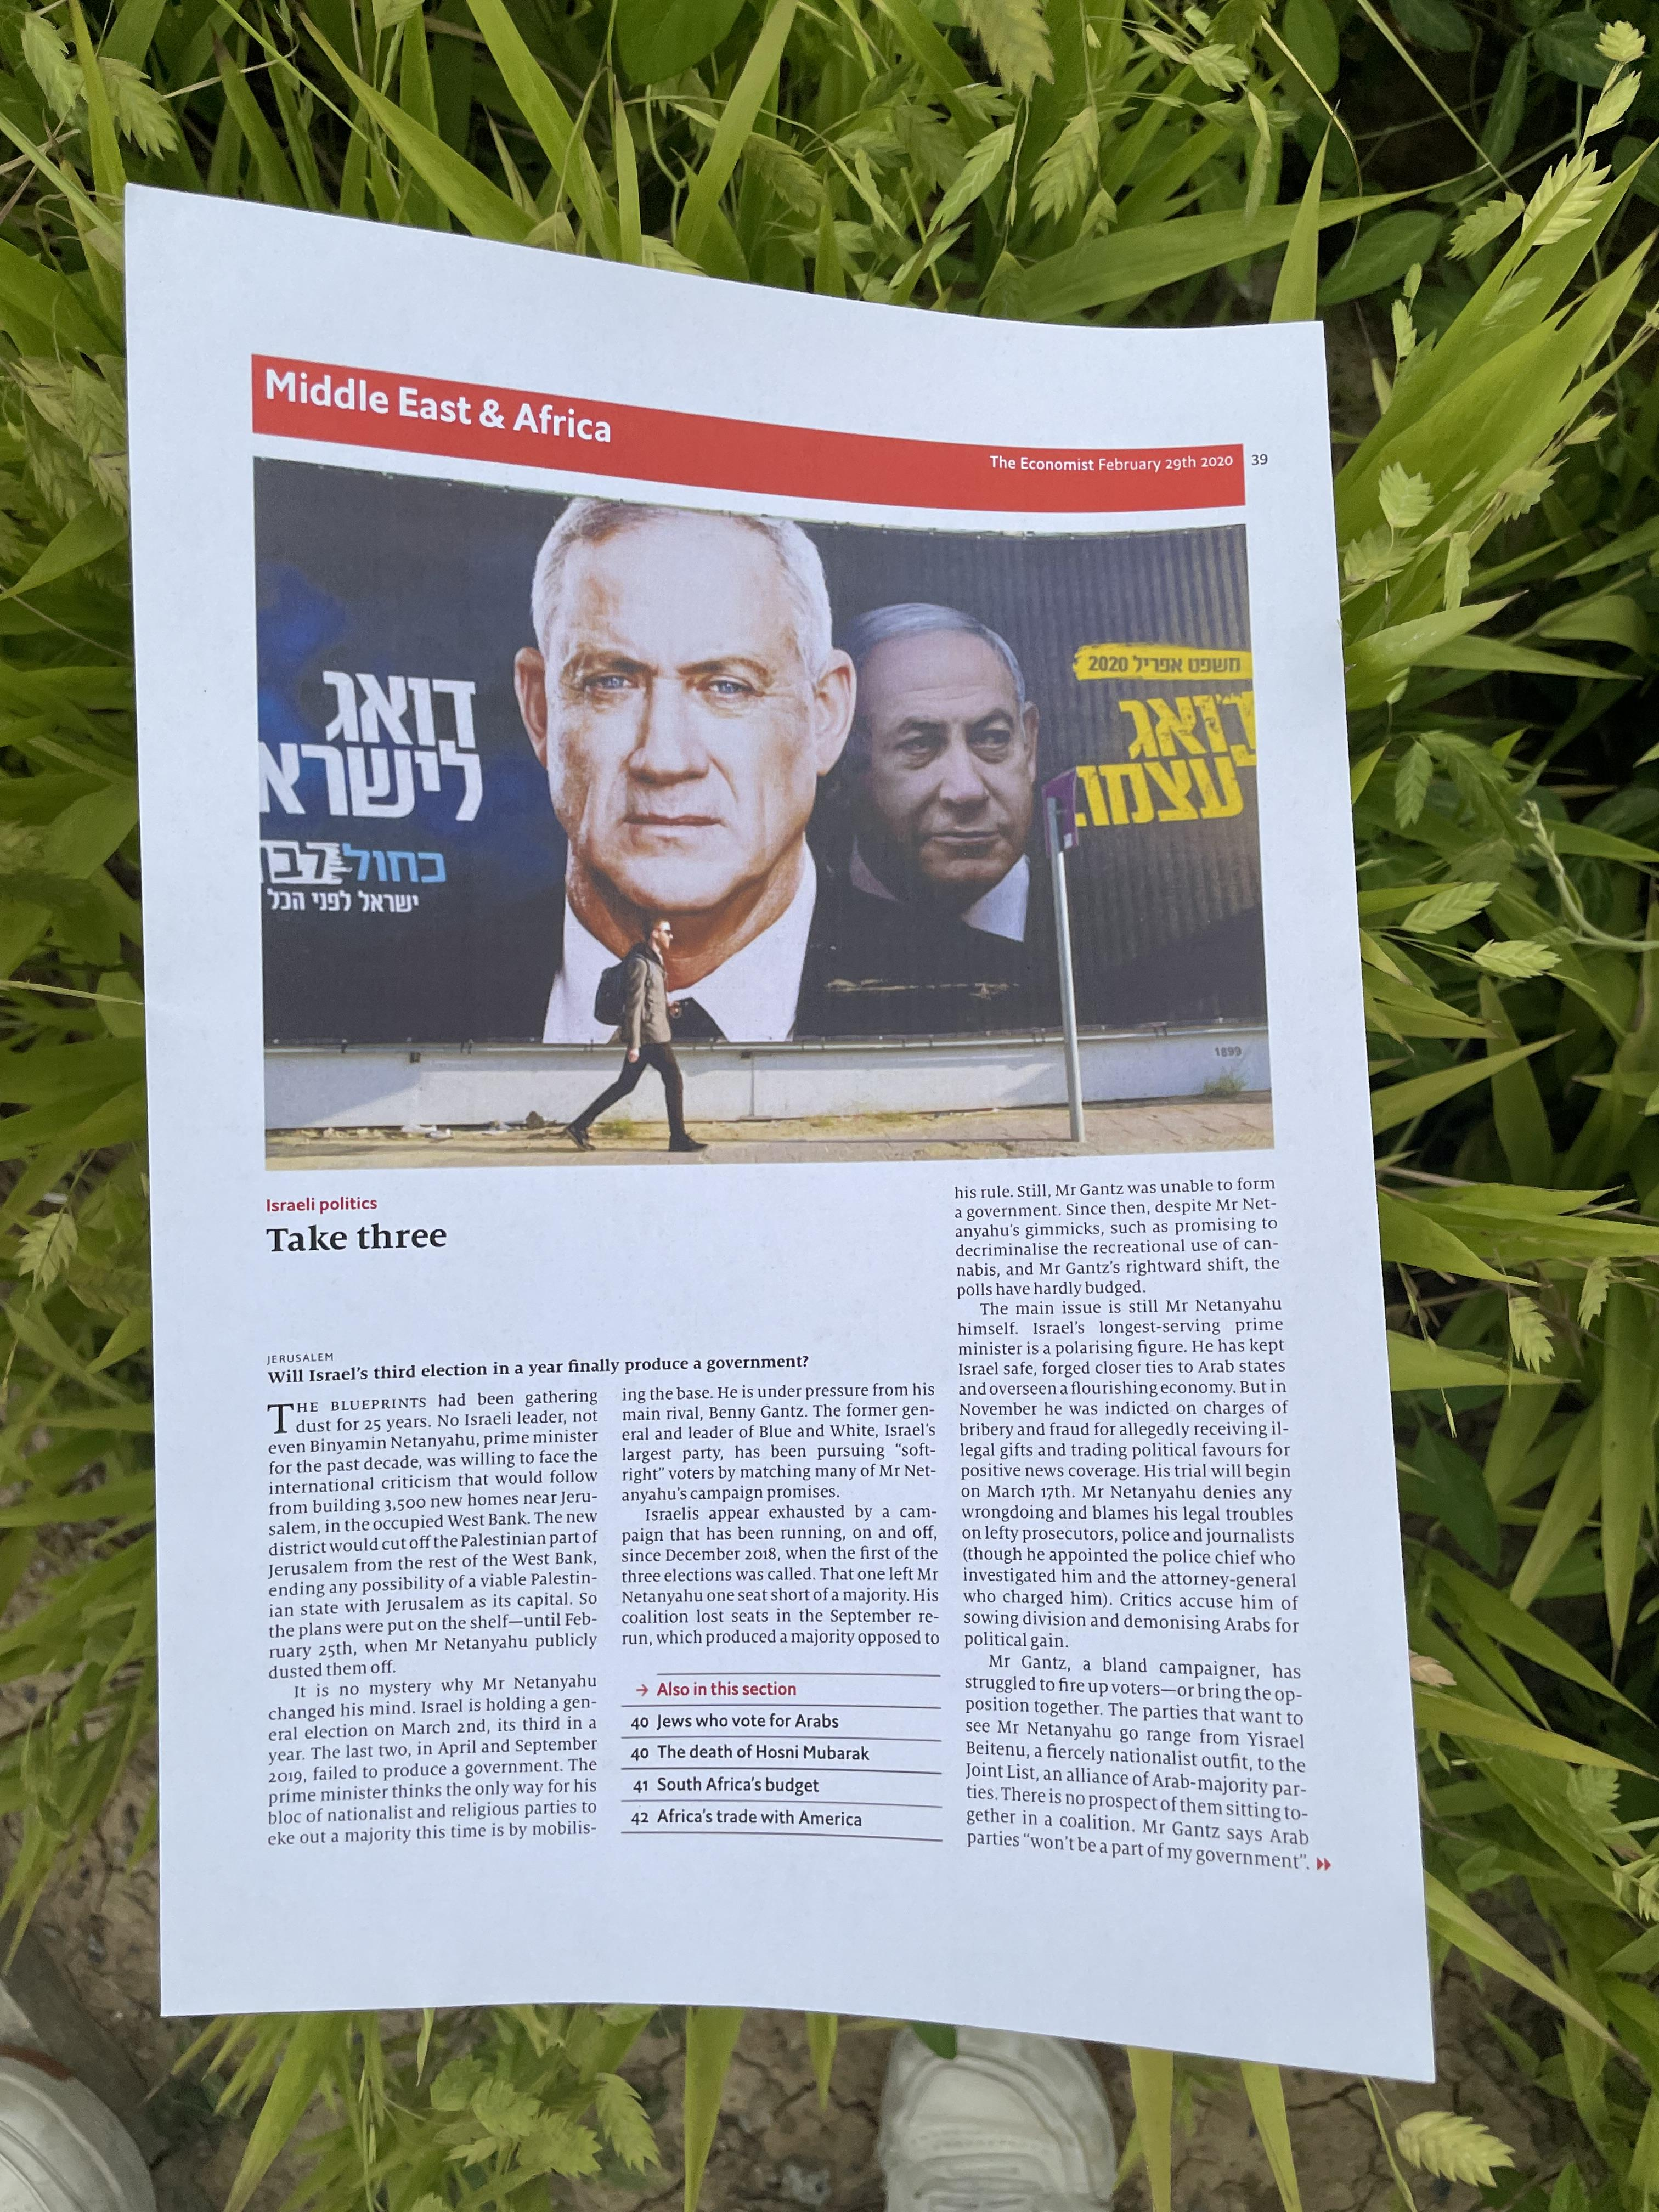paper: (77, 91, 1415, 2212)
